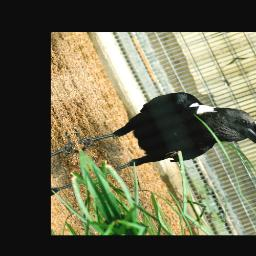Crow: (70, 70, 256, 202)
